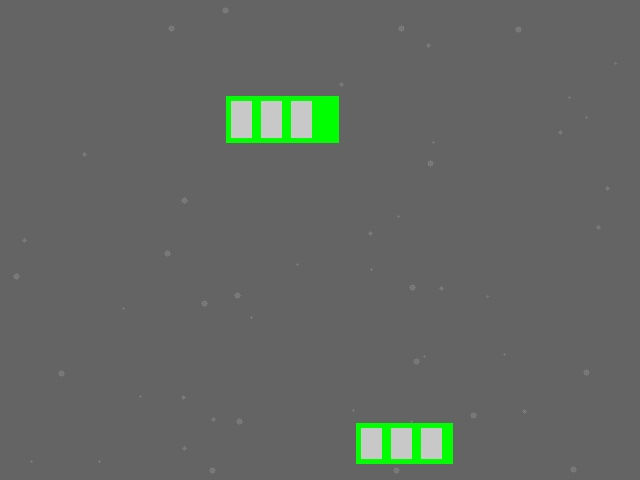bus: (226, 96, 338, 142), (356, 423, 452, 463)
